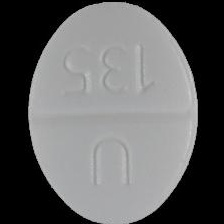68788-9317: (0, 0, 224, 224)
